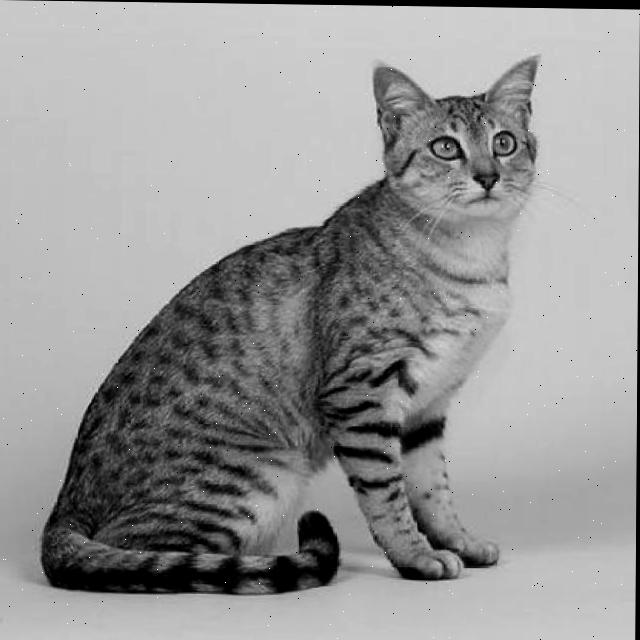Cat: (36, 49, 542, 602)
